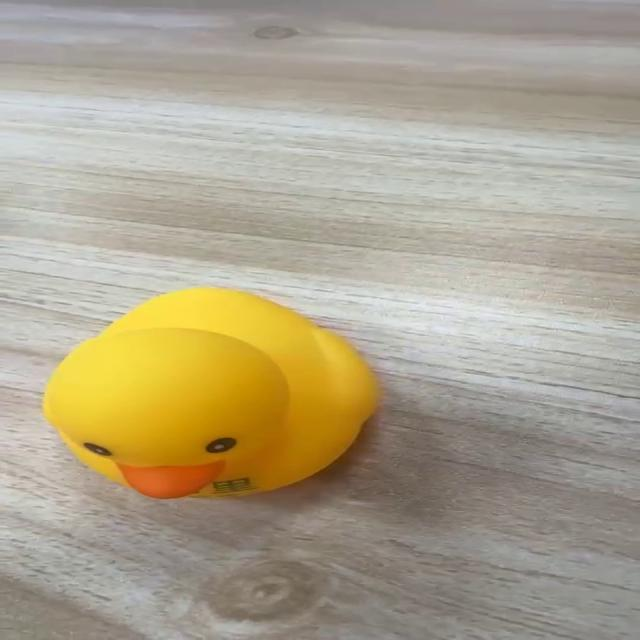yellow_duck: (41, 285, 380, 500)
